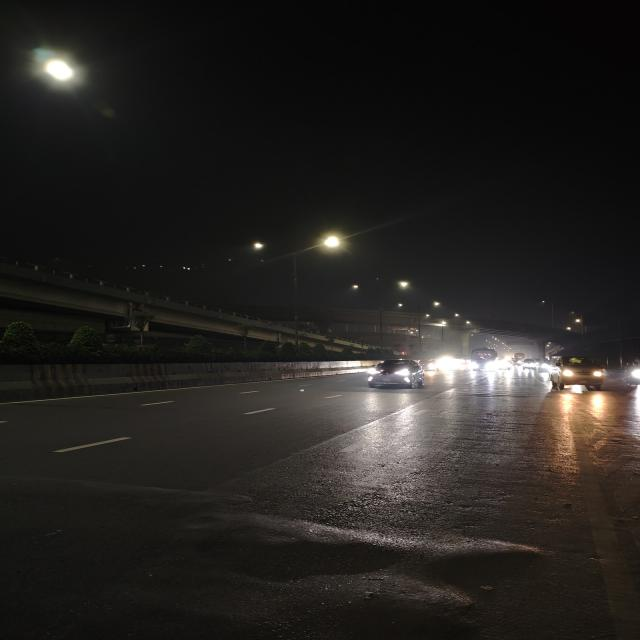bus: (469, 346, 500, 371)
car: (541, 354, 612, 394), (358, 356, 433, 392), (520, 358, 540, 372)
